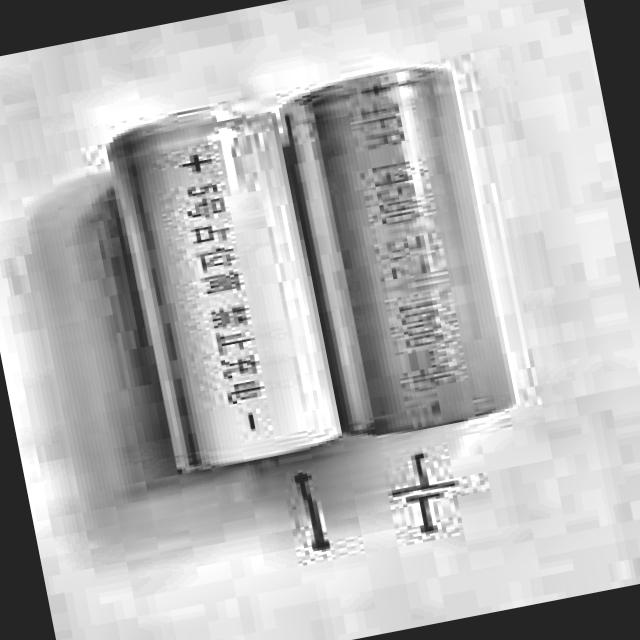Battery: (280, 59, 522, 444), (110, 90, 348, 479)
